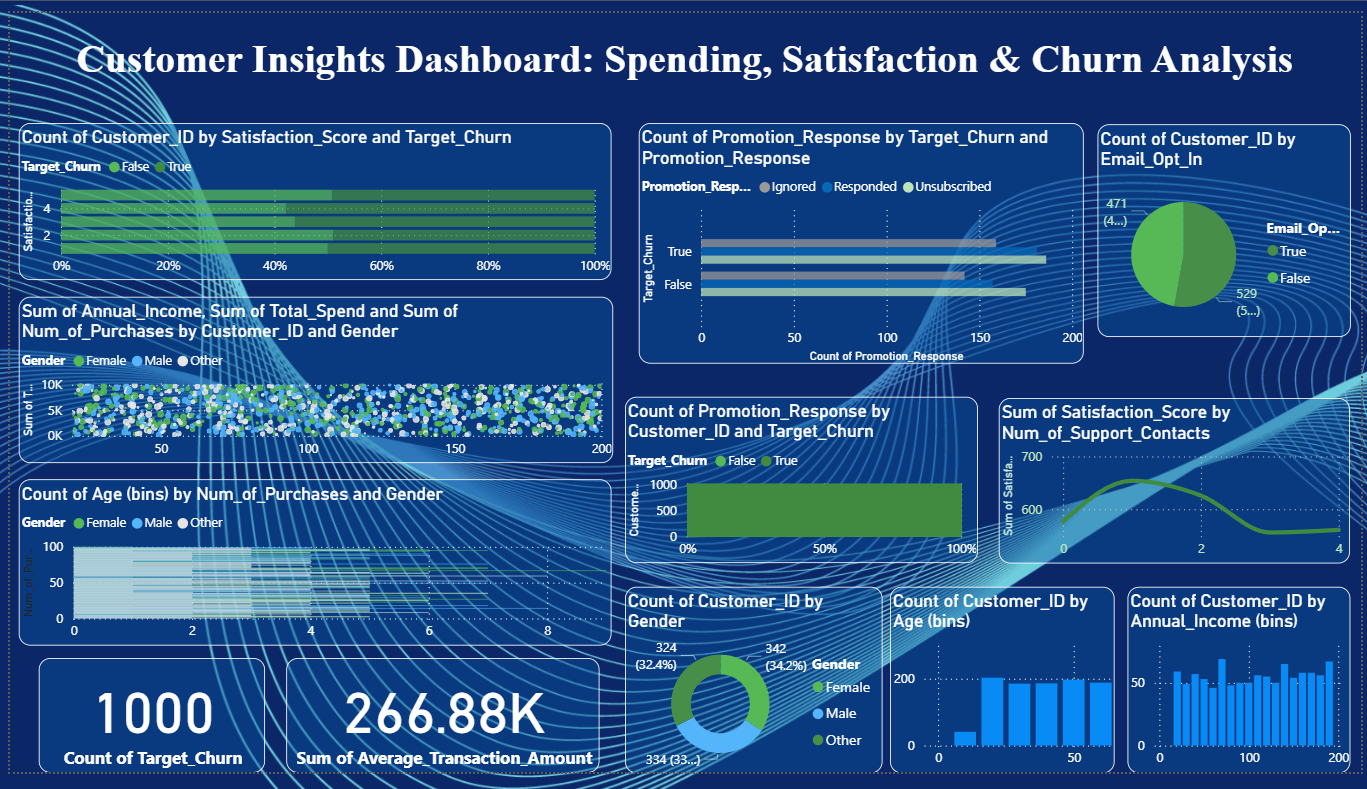

This screenshot's page, from the dashboard's own definition file:
{"tool":"powerbi","page":{"name":"Page 1","canvas":[1280,720],"ordinal":0},"visuals":[{"type":"group","id":"g1","title":"Group 1","box":[8.6,104.3,1262,615.7],"z":0},{"type":"columnChart","fields":{"Category":["online_retail_customer_churn.Age (bins)"],"Y":["CountNonNull(online_retail_customer_churn.Customer_ID)"]},"box":[834.3,543.6,212.9,176.5],"z":0,"group":"g1"},{"type":"textbox","box":[27.1,17.1,1224.3,75.7],"z":1000},{"type":"scatterChart","fields":{"X":["Sum(online_retail_customer_churn.Annual_Income)"],"Y":["Sum(online_retail_customer_churn.Total_Spend)"],"Category":["online_retail_customer_churn.Customer_ID"],"Size":["Sum(online_retail_customer_churn.Num_of_Purchases)"],"Series":["online_retail_customer_churn.Gender"]},"box":[8.6,269.5,562.9,157.7],"z":1000,"group":"g1"},{"type":"clusteredBarChart","fields":{"Category":["online_retail_customer_churn.Num_of_Purchases"],"Series":["online_retail_customer_churn.Gender"],"Y":["CountNonNull(online_retail_customer_churn.Age (bins))"]},"box":[8.6,442.2,561.4,157.7],"z":2000,"group":"g1"},{"type":"donutChart","fields":{"Y":["CountNonNull(online_retail_customer_churn.Customer_ID)"],"Category":["online_retail_customer_churn.Gender"]},"box":[582.9,543.6,244.3,176.5],"z":3000,"group":"g1"},{"type":"card","fields":{"Values":["Sum(online_retail_customer_churn.Average_Transaction_Amount)"]},"box":[261.5,611.1,297.1,108.9],"z":4000,"group":"g1"},{"type":"columnChart","fields":{"Category":["online_retail_customer_churn.Annual_Income (bins)"],"Y":["CountNonNull(online_retail_customer_churn.Customer_ID)"]},"box":[1058.6,543.6,211.4,176.5],"z":5000,"group":"g1"},{"type":"hundredPercentStackedBarChart","fields":{"Category":["online_retail_customer_churn.Satisfaction_Score"],"Y":["CountNonNull(online_retail_customer_churn.Customer_ID)"],"Series":["online_retail_customer_churn.Target_Churn"]},"box":[8.6,104.3,561.4,148.9],"z":6000,"group":"g1"},{"type":"lineChart","fields":{"Category":["online_retail_customer_churn.Num_of_Support_Contacts"],"Y":["Sum(online_retail_customer_churn.Satisfaction_Score)"]},"box":[937.2,364.6,332.9,156.4],"z":7000,"group":"g1"},{"type":"card","fields":{"Values":["CountNonNull(online_retail_customer_churn.Target_Churn)"]},"box":[27.2,611.1,214.3,108.9],"z":8000,"group":"g1"},{"type":"pieChart","fields":{"Category":["online_retail_customer_churn.Email_Opt_In"],"Y":["CountNonNull(online_retail_customer_churn.Customer_ID)"]},"box":[1030.6,105.3,240,201.4],"z":9000,"group":"g1"},{"type":"hundredPercentStackedBarChart","fields":{"Y":["CountNonNull(online_retail_customer_churn.Promotion_Response)"],"Category":["online_retail_customer_churn.Customer_ID"],"Series":["online_retail_customer_churn.Target_Churn"]},"box":[582.9,363.4,334.3,157.7],"z":10000,"group":"g1"},{"type":"clusteredBarChart","fields":{"Y":["CountNonNull(online_retail_customer_churn.Promotion_Response)"],"Category":["online_retail_customer_churn.Target_Churn"],"Series":["online_retail_customer_churn.Promotion_Response"]},"box":[595.7,104.3,421.4,227.8],"z":11000,"group":"g1"}]}

Visuals, with their boxes in screenshot pixels (x1, y1, x2, y2), scaled from the page's 1280x720 canvas onto the 1367x789 screenshot:
"Group 1" group: 9:114:1357:788
columnChart - online_retail_customer_churn.Age (bins) x CountNonNull(online_retail_customer_churn.Customer_ID): 891:596:1118:788
textbox: 29:19:1336:102
scatterChart - Sum(online_retail_customer_churn.Annual_Income) x Sum(online_retail_customer_churn.Total_Spend): 9:295:610:468
clusteredBarChart - online_retail_customer_churn.Num_of_Purchases x online_retail_customer_churn.Gender: 9:485:609:657
donutChart - CountNonNull(online_retail_customer_churn.Customer_ID) x online_retail_customer_churn.Gender: 623:596:883:788
card - Sum(online_retail_customer_churn.Average_Transaction_Amount): 279:670:597:788
columnChart - online_retail_customer_churn.Annual_Income (bins) x CountNonNull(online_retail_customer_churn.Customer_ID): 1131:596:1356:788
hundredPercentStackedBarChart - online_retail_customer_churn.Satisfaction_Score x CountNonNull(online_retail_customer_churn.Customer_ID): 9:114:609:277
lineChart - online_retail_customer_churn.Num_of_Support_Contacts x Sum(online_retail_customer_churn.Satisfaction_Score): 1001:400:1356:571
card - CountNonNull(online_retail_customer_churn.Target_Churn): 29:670:258:788
pieChart - online_retail_customer_churn.Email_Opt_In x CountNonNull(online_retail_customer_churn.Customer_ID): 1101:115:1357:336
hundredPercentStackedBarChart - CountNonNull(online_retail_customer_churn.Promotion_Response) x online_retail_customer_churn.Customer_ID: 623:398:980:571
clusteredBarChart - CountNonNull(online_retail_customer_churn.Promotion_Response) x online_retail_customer_churn.Target_Churn: 636:114:1086:364
